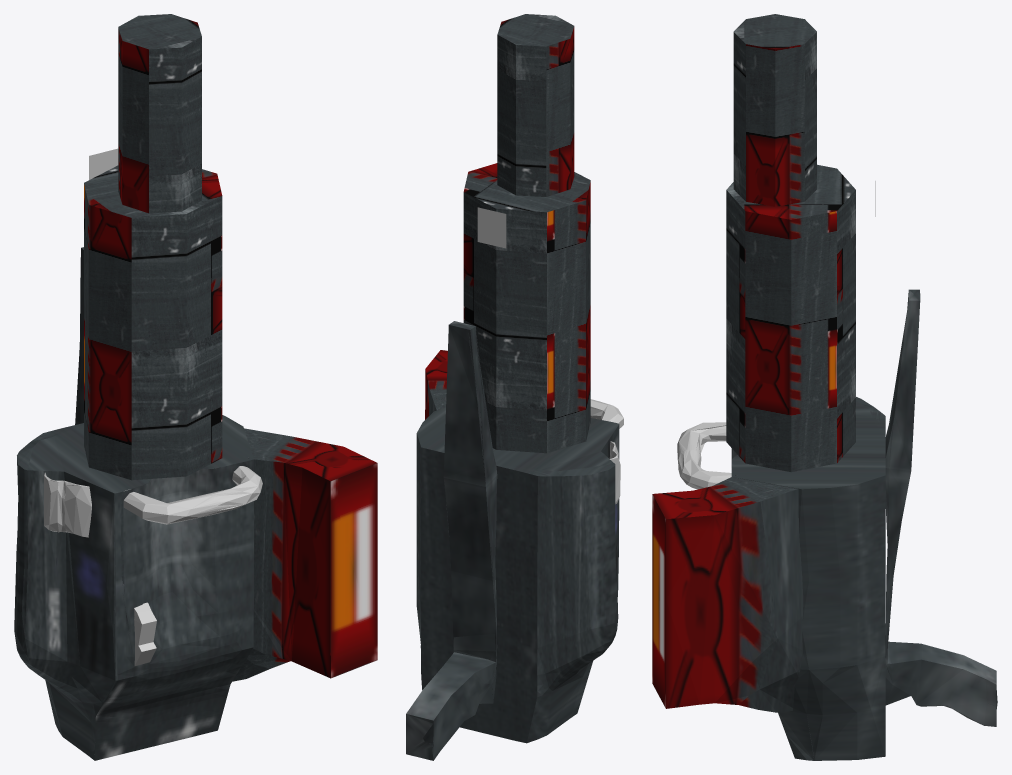
Rendered from BFGrlds_wtf.obj.
3 views of the same model, side by side, from view 1: azimuth 30°, elevation 25°; view 2: azimuth 150°, elevation 25°; view 3: azimuth 270°, elevation 25° (orthographic). The views are drawn at different scales.
Visible parts, largest first — view 1: group16, group6, group3, group5, group2, group12, group10, group14, group11, group15; view 2: group16, group5, group11, group4, group2, group3, group15, group12, group10; view 3: group16, group3, group5, group2, group11, group12.
Boxes of the visible parts, bbox=[...] form: group16: bbox=[84, 165, 222, 480]; group6: bbox=[94, 459, 253, 760]; group3: bbox=[232, 428, 377, 681]; group5: bbox=[14, 415, 253, 760]; group2: bbox=[118, 14, 201, 213]; group12: bbox=[123, 466, 262, 524]; group10: bbox=[44, 472, 91, 537]; group14: bbox=[134, 602, 156, 665]; group11: bbox=[75, 247, 83, 424]; group15: bbox=[89, 148, 118, 179]; group16: bbox=[463, 163, 590, 453]; group5: bbox=[416, 407, 619, 742]; group11: bbox=[406, 321, 497, 760]; group4: bbox=[421, 447, 537, 743]; group2: bbox=[497, 14, 574, 196]; group3: bbox=[425, 350, 447, 419]; group15: bbox=[477, 207, 506, 248]; group12: bbox=[590, 399, 623, 428]; group10: bbox=[609, 441, 620, 504]; group16: bbox=[726, 164, 855, 472]; group3: bbox=[652, 475, 803, 712]; group5: bbox=[731, 397, 885, 760]; group2: bbox=[733, 14, 816, 206]; group11: bbox=[885, 289, 997, 726]; group12: bbox=[677, 422, 731, 489].
Size of the model in its own units: 262 by 660 by 295.
